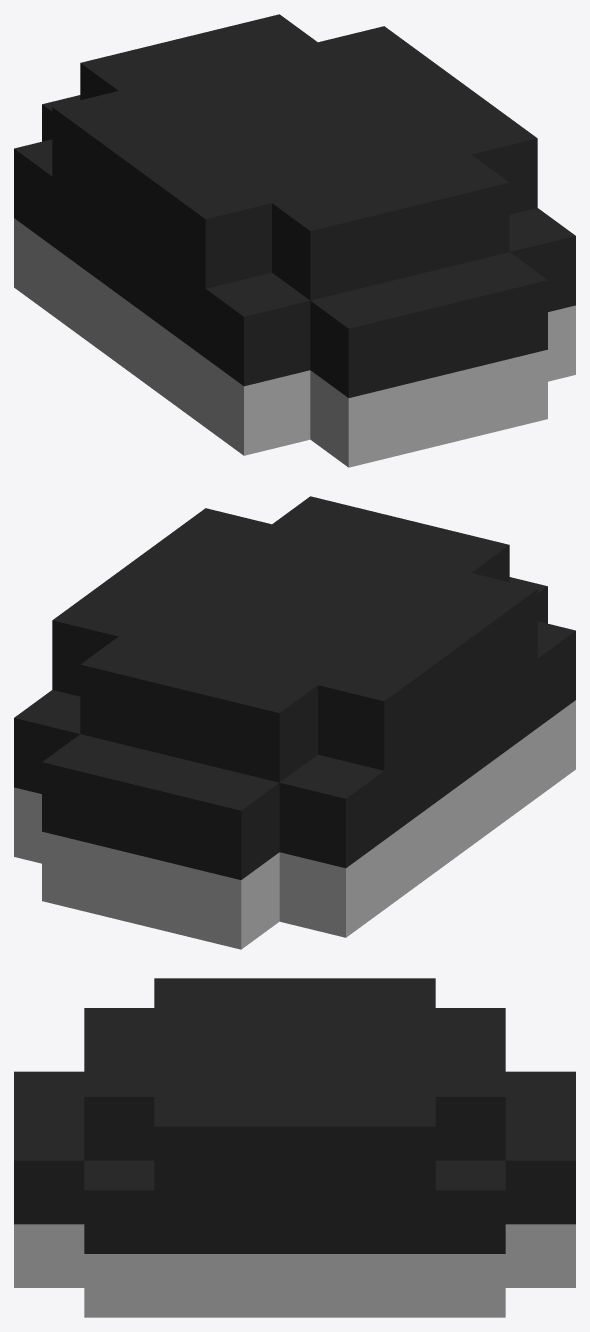
The model's file is humantemplatefeet.obj.
3 views of the same model, one above another, from view 1: azimuth 30°, elevation 25°; view 2: azimuth 150°, elevation 25°; view 3: azimuth 270°, elevation 25° (orthographic). The views are drawn at different scales.
Bounding box in the file's own units: 5 × 3 × 8.
1 material, 1 textured.
